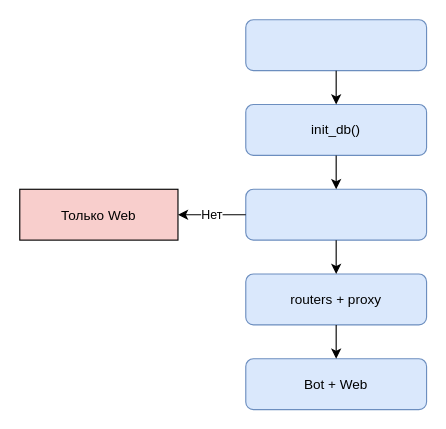
The diagram is 446 pixels wide and 429 high, and some of its shapes have lost their labels. The shapes that lost their labels are listed below. From the top down, each one's centre as x and y in pixels, then its label:
At (336,45): "run.py".
At (336,214): "Токен OK?".
